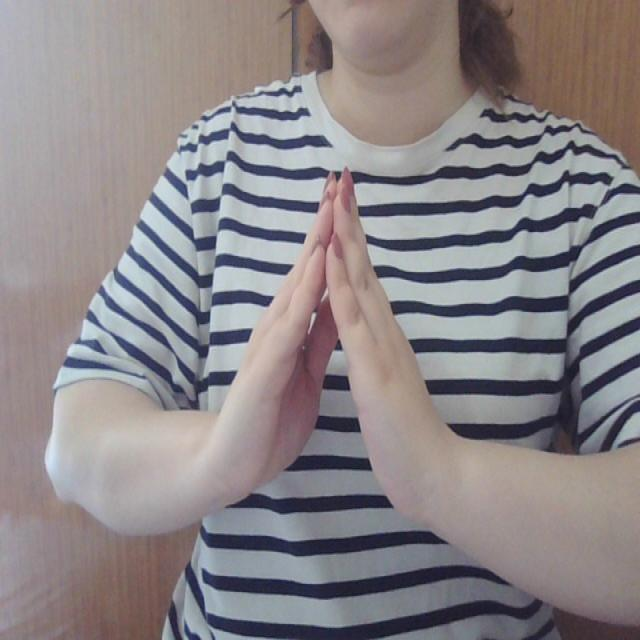Ev: (202, 163, 440, 512)
